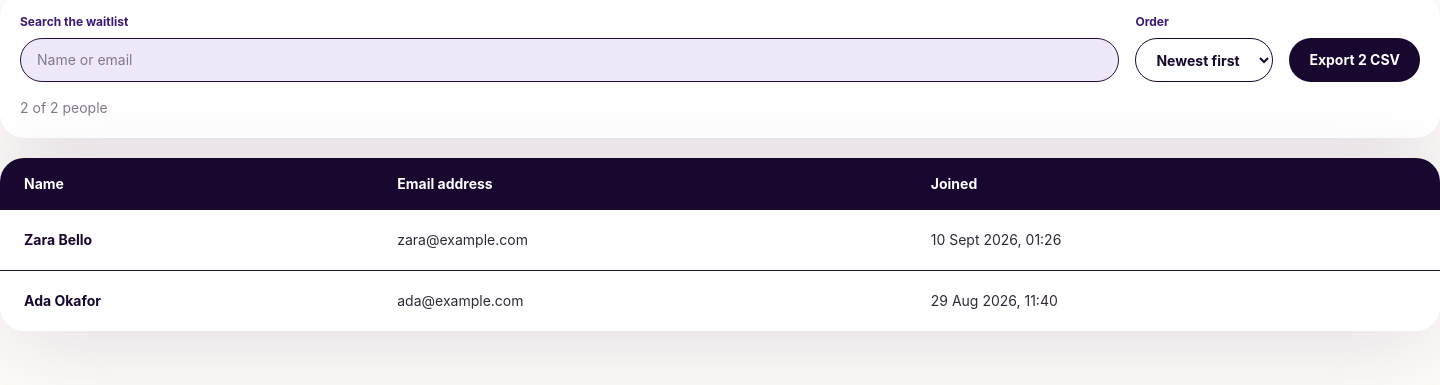
Scenario: WaitlistTable › searches entries and updates the export count
Step 1. Type "Ada" into the search field labelled "Search the waitlist" → (570, 60), box [20,38,1119,82]
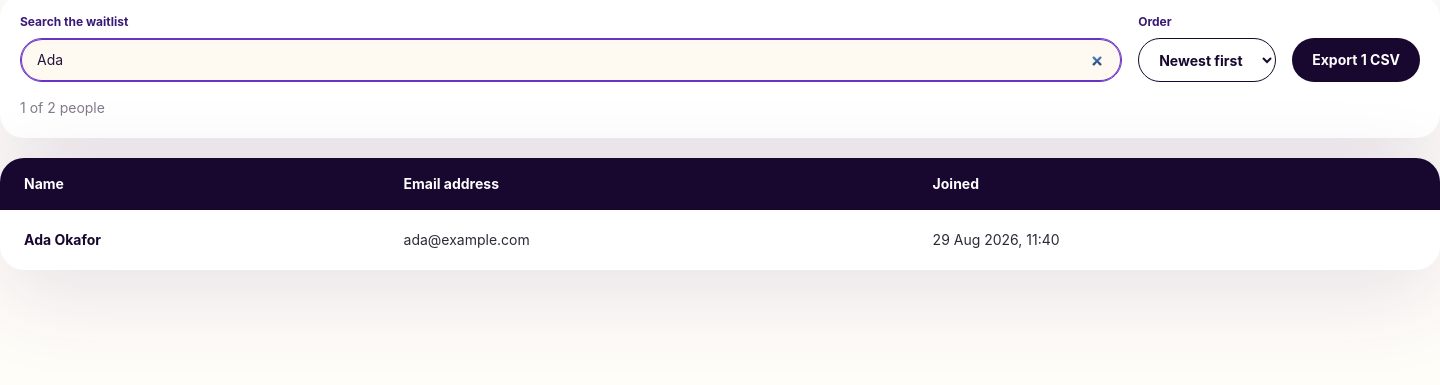
Check: no column headings "Zara Bello" are shown
Check: the button "Export 1 CSV" is shown, box [1292,38,1420,82]
